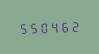five: (27, 20, 36, 34), (17, 21, 26, 34)
four: (48, 20, 57, 33)
six: (58, 19, 67, 33)
two: (68, 19, 77, 33)
zero: (38, 20, 47, 34)
